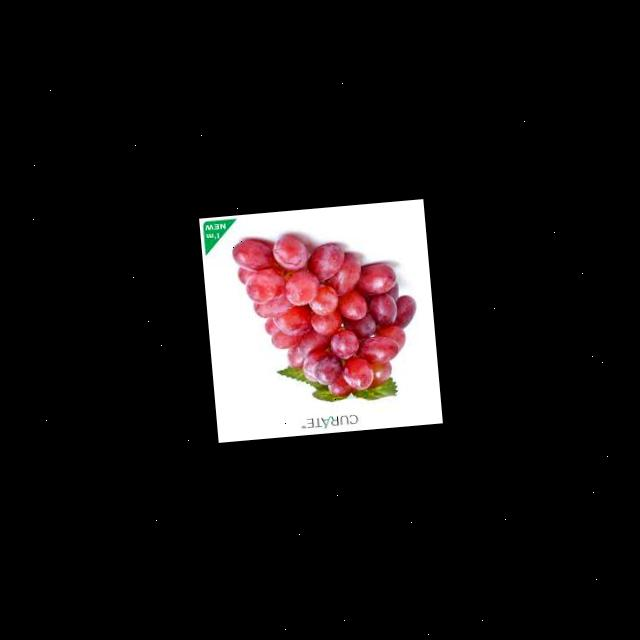grape: (230, 222, 423, 408)
